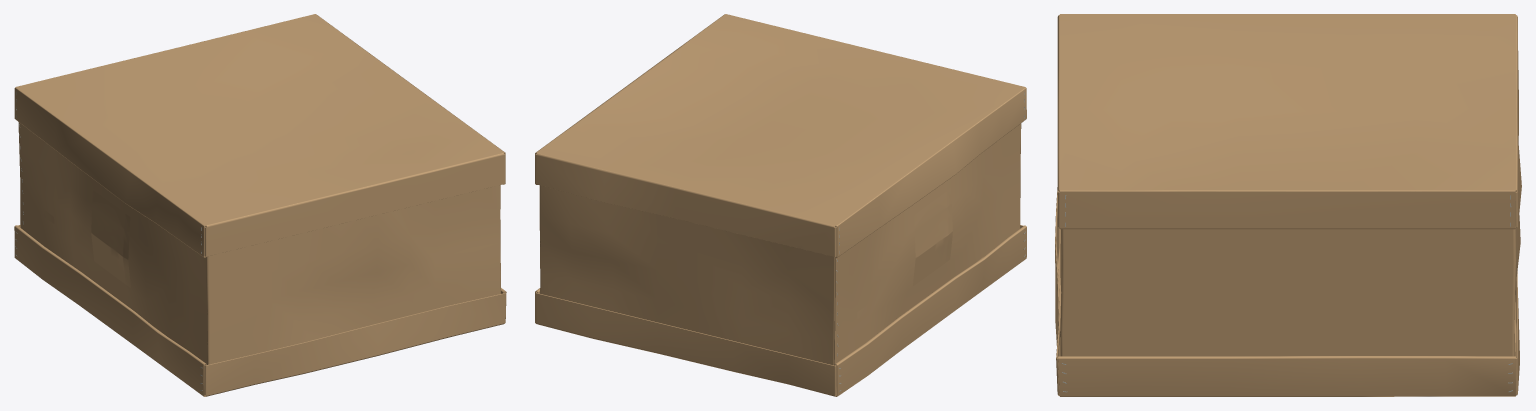
The model's file is box_cardboard_large_b01.glb.
The picture shows the model from 3 angles, left to right: view 1: azimuth 30°, elevation 25°; view 2: azimuth 150°, elevation 25°; view 3: azimuth 270°, elevation 25°; orthographic projection. The views are drawn at different scales.
Bounding box in the file's own units: 0.9966 × 0.5353 × 1.09.
